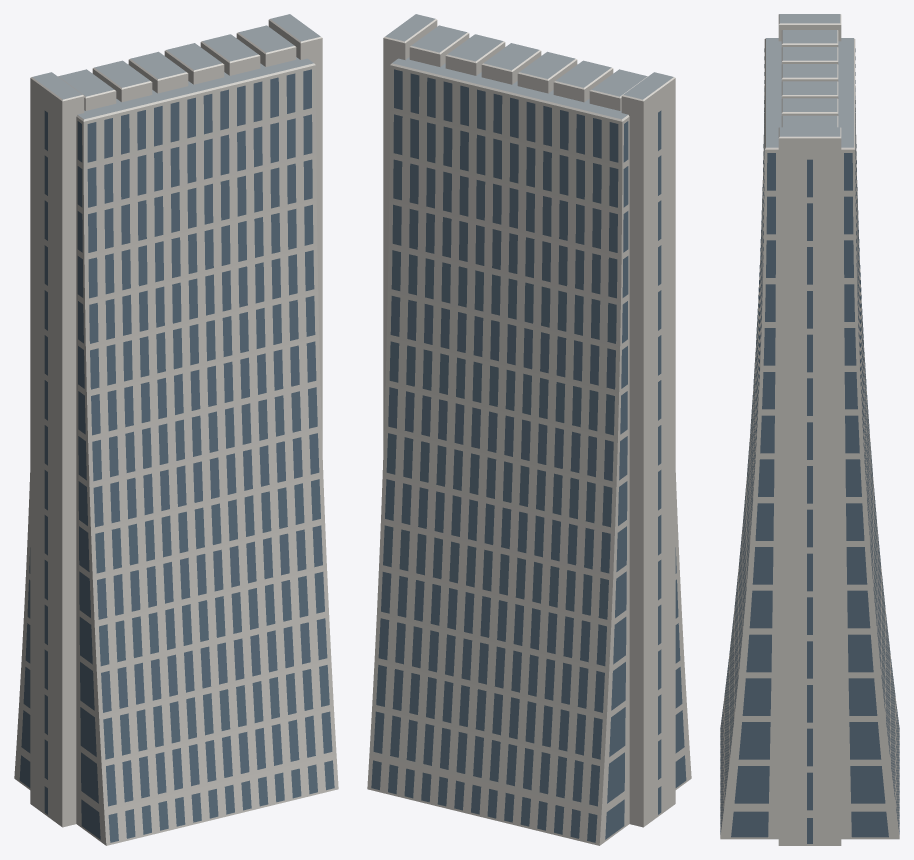
The model's file is chi-chase-tower.glb.
3 views of the same model, side by side, from view 1: azimuth 30°, elevation 25°; view 2: azimuth 150°, elevation 25°; view 3: azimuth 270°, elevation 25° (orthographic). The views are drawn at different scales.
Visible parts, largest first — view 1: Chase Tower; view 2: Chase Tower; view 3: Chase Tower.
Boxes of the visible parts, left/top/right/bottom form: Chase Tower: left=14, top=14, right=338, bottom=845; Chase Tower: left=367, top=14, right=691, bottom=845; Chase Tower: left=720, top=14, right=899, bottom=845.
Size of the model in its own units: 97.12 by 259 by 59.4.
